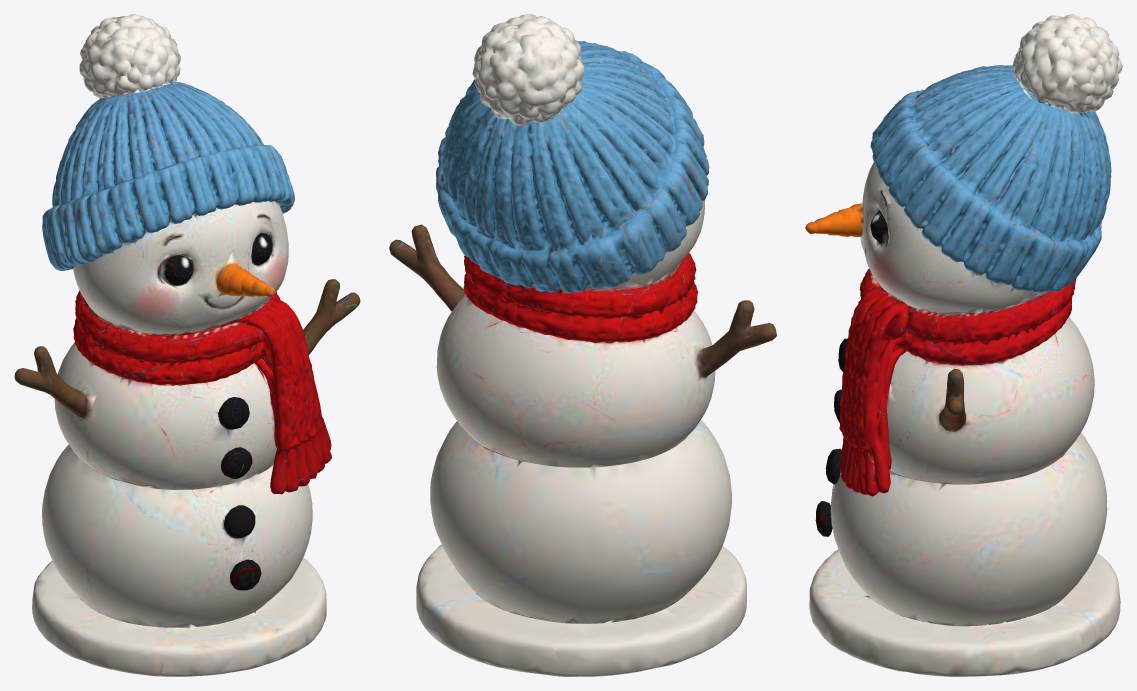
3 views of the same model, side by side, from view 1: azimuth 30°, elevation 25°; view 2: azimuth 150°, elevation 25°; view 3: azimuth 270°, elevation 25° (orthographic). The views are drawn at different scales.
Size of the model in its own units: 1.22 by 1.9 by 0.9196.
1 material, 1 textured.
